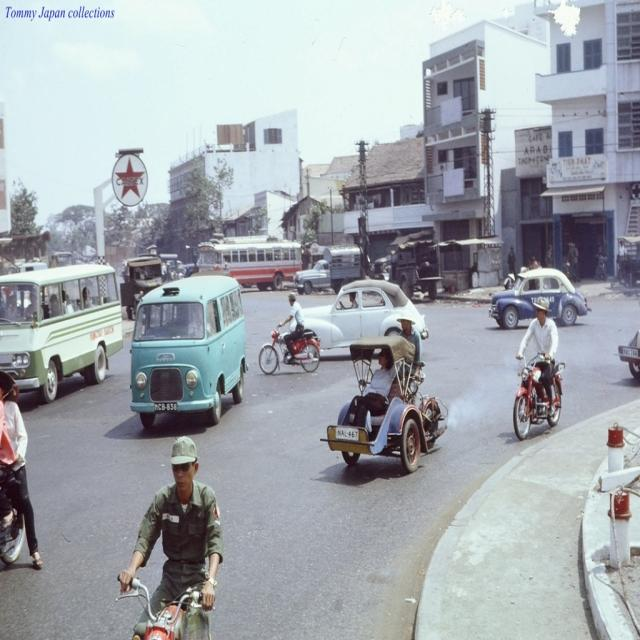MiniBus taxi: (1, 253, 124, 409), (131, 270, 248, 432)
Motorbikes: (510, 298, 568, 442), (257, 295, 319, 377)
Passenger Car: (287, 277, 428, 357), (483, 268, 600, 337)
